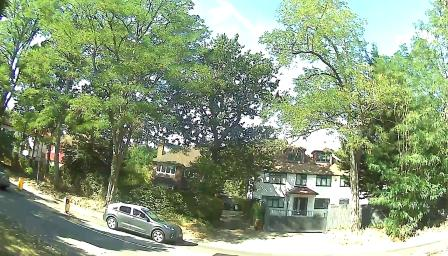Cars: (105, 194, 190, 248)
